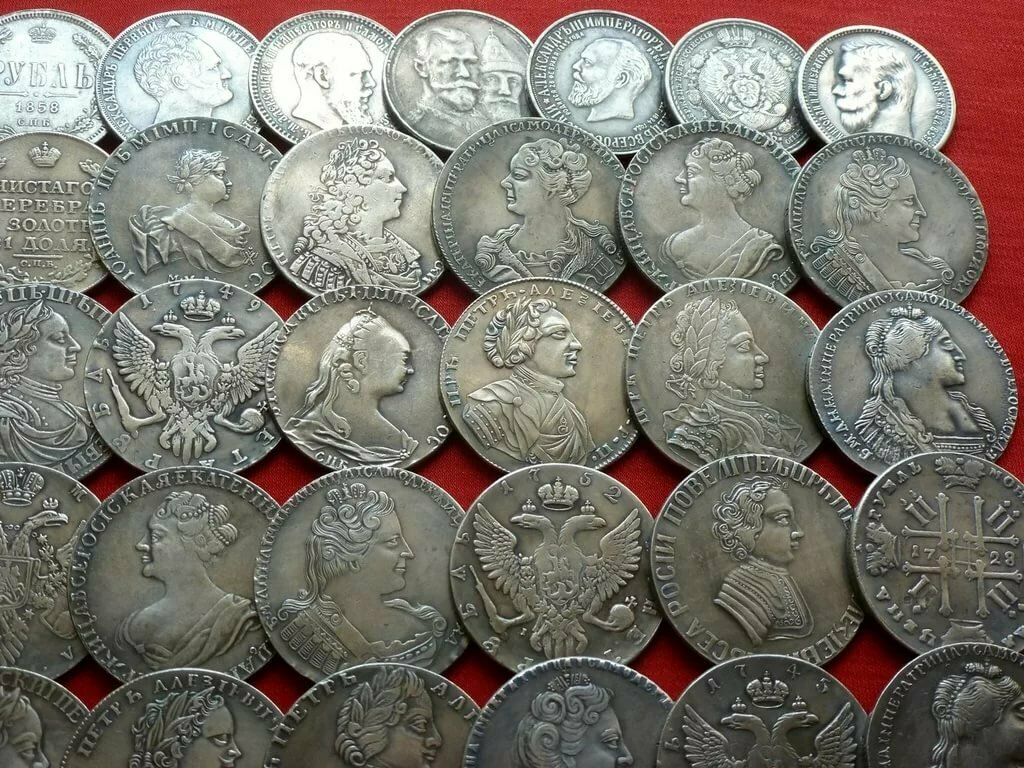coin: (66, 465, 279, 682), (255, 467, 464, 683), (447, 462, 658, 669), (650, 452, 857, 662), (807, 288, 1018, 470), (83, 280, 281, 472), (624, 277, 819, 471), (439, 277, 631, 468), (848, 453, 1024, 652), (786, 133, 989, 303), (88, 117, 282, 294), (431, 117, 623, 294), (265, 286, 445, 471), (617, 121, 803, 292), (261, 126, 445, 291), (655, 654, 873, 768), (462, 657, 676, 768), (264, 662, 482, 768), (62, 668, 286, 768), (96, 9, 258, 140), (1, 285, 110, 477), (1, 461, 97, 678), (384, 8, 534, 145), (866, 641, 1024, 768), (527, 9, 673, 145), (797, 23, 957, 147), (248, 9, 393, 136), (666, 15, 805, 147), (1, 130, 104, 286), (1, 8, 112, 140), (1, 667, 90, 768)
